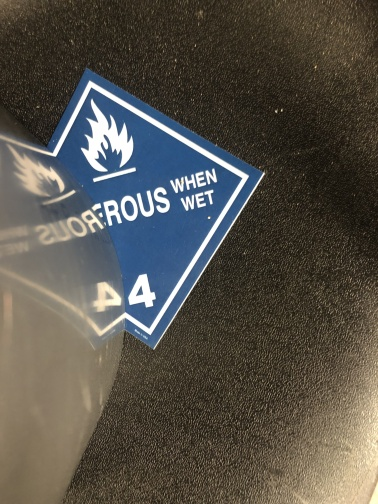DangerousWhenWet: (41, 69, 264, 348)
